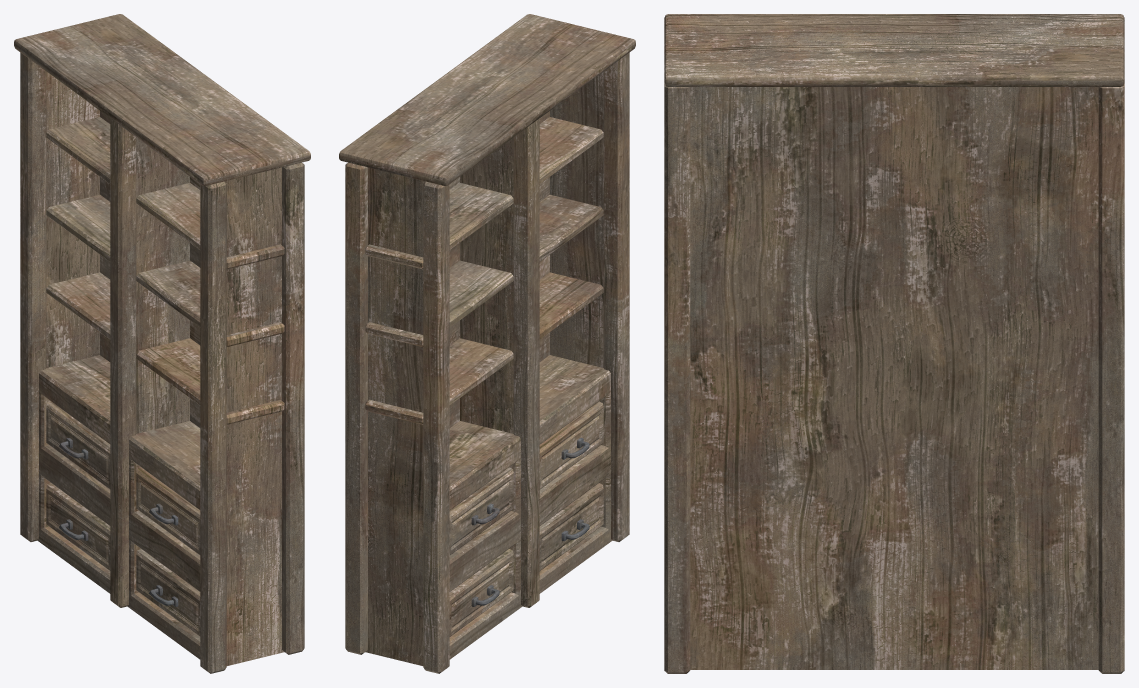
File: SM_Bar_Shelf.fbx
The picture shows the model from 3 angles, left to right: view 1: azimuth 30°, elevation 25°; view 2: azimuth 150°, elevation 25°; view 3: azimuth 270°, elevation 25°; orthographic projection. The views are drawn at different scales.
Parts seen in each view (by area): view 1: SM_Bar_Shelf_LOD0; view 2: SM_Bar_Shelf_LOD0; view 3: SM_Bar_Shelf_LOD0.
Part boxes in pixels (left/top/right/bottom): SM_Bar_Shelf_LOD0: left=14, top=14, right=310, bottom=673; SM_Bar_Shelf_LOD0: left=339, top=14, right=635, bottom=673; SM_Bar_Shelf_LOD0: left=664, top=14, right=1124, bottom=673.
Size of the model in its own units: 70.08 by 212 by 306.
Materials: 2 (2 with a texture image).
